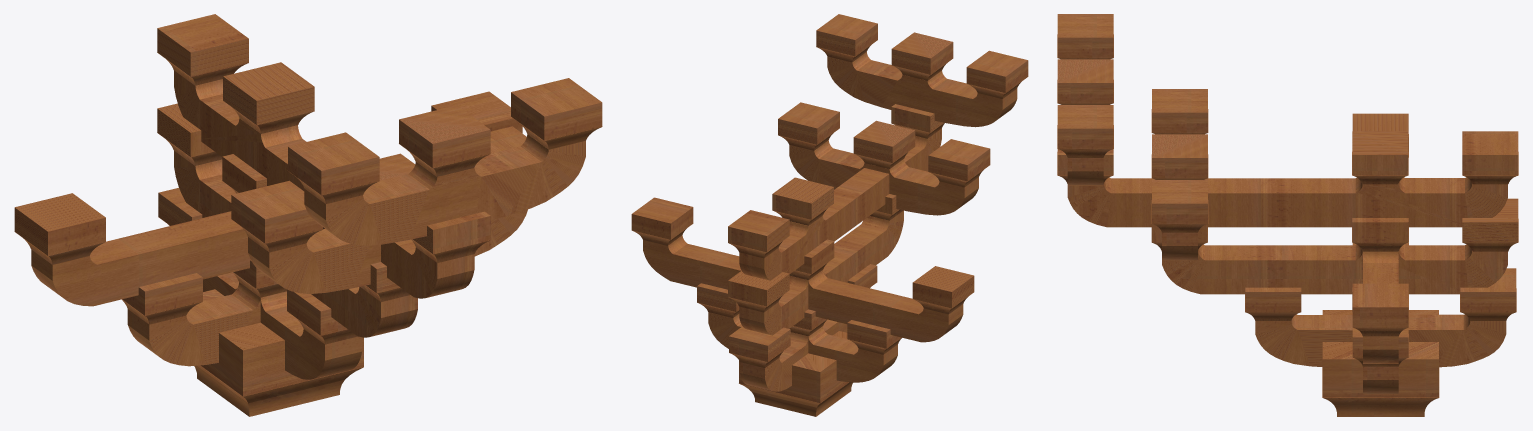
The picture shows the model from 3 angles, left to right: view 1: azimuth 30°, elevation 25°; view 2: azimuth 150°, elevation 25°; view 3: azimuth 270°, elevation 25°; orthographic projection. The views are drawn at different scales.
Parts seen in each view (by area): view 1: samor_4136_6162, samor_4136_6163, samor_4136_6159, samor_4136_6161, samor_4136_6160, samor_4136_6158, samor_4136_6156, samor_4136_6157; view 2: samor_4136_6159, samor_4136_6162, samor_4136_6161, samor_4136_6163, samor_4136_6160, samor_4136_6158, samor_4136_6156, samor_4136_6157; view 3: samor_4136_6163, samor_4136_6160, samor_4136_6156, samor_4136_6162, samor_4136_6161, samor_4136_6157, samor_4136_6159, samor_4136_6158.
Boxes of the visible parts, x1=… form: samor_4136_6162: x1=288, y1=78, x2=602, y2=245; samor_4136_6163: x1=157, y1=14, x2=490, y2=298; samor_4136_6159: x1=14, y1=91, x2=522, y2=306; samor_4136_6161: x1=231, y1=126, x2=527, y2=293; samor_4136_6160: x1=157, y1=103, x2=417, y2=337; samor_4136_6158: x1=122, y1=260, x2=260, y2=366; samor_4136_6156: x1=158, y1=187, x2=362, y2=379; samor_4136_6157: x1=194, y1=289, x2=363, y2=416; samor_4136_6159: x1=631, y1=197, x2=974, y2=342; samor_4136_6162: x1=816, y1=14, x2=1028, y2=127; samor_4136_6161: x1=778, y1=102, x2=990, y2=215; samor_4136_6163: x1=728, y1=104, x2=944, y2=280; samor_4136_6160: x1=728, y1=194, x2=903, y2=335; samor_4136_6158: x1=697, y1=283, x2=901, y2=382; samor_4136_6156: x1=729, y1=264, x2=877, y2=391; samor_4136_6157: x1=739, y1=331, x2=852, y2=416; samor_4136_6163: x1=1057, y1=131, x2=1518, y2=227; samor_4136_6160: x1=1151, y1=198, x2=1518, y2=294; samor_4136_6156: x1=1245, y1=268, x2=1516, y2=367; samor_4136_6162: x1=1057, y1=14, x2=1113, y2=185; samor_4136_6161: x1=1151, y1=89, x2=1208, y2=260; samor_4136_6157: x1=1322, y1=310, x2=1439, y2=416; samor_4136_6159: x1=1352, y1=113, x2=1408, y2=363; samor_4136_6158: x1=1352, y1=242, x2=1408, y2=394.
Size of the model in its own units: 38.6 by 30.4 by 38.84.
Materials: 1 (1 with a texture image).
